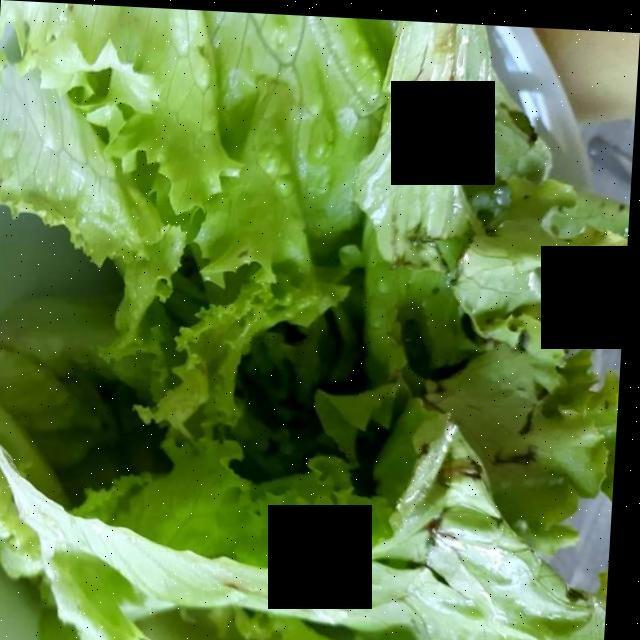salad: (0, 9, 616, 640)
